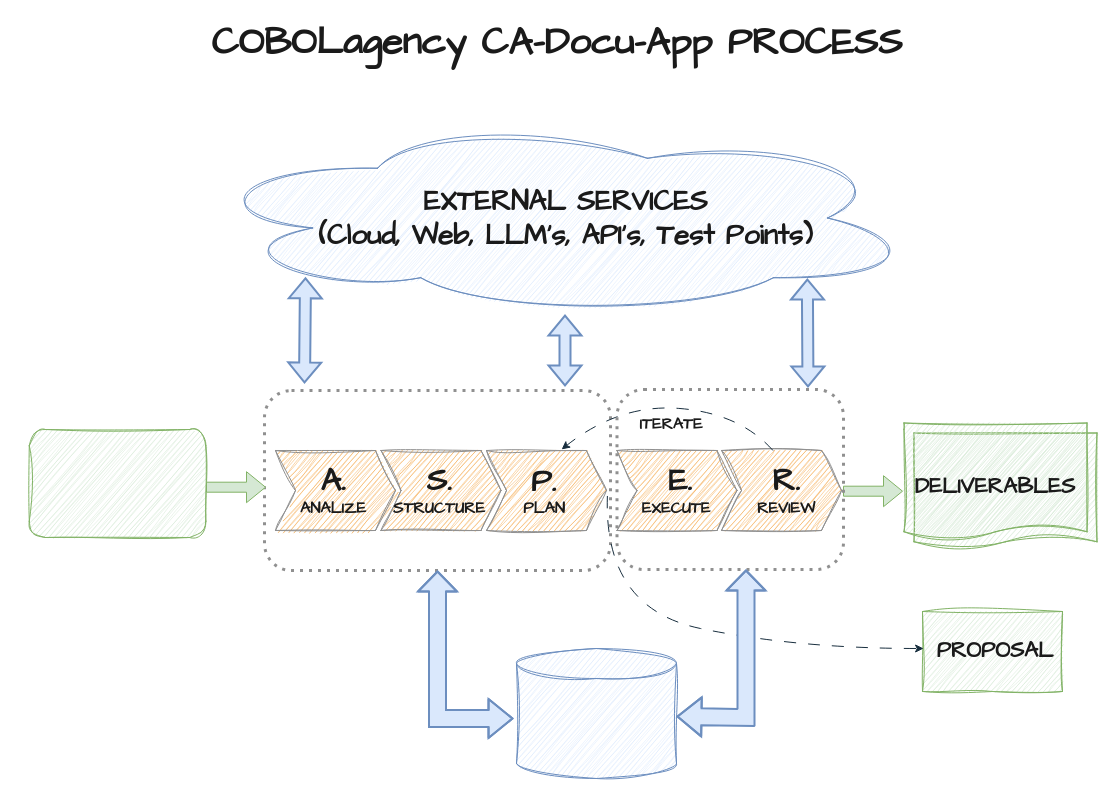
Image size: 1114x796. Some labels were removed from this diagram. The shapes that lost their labels are listed below. From the top down, each one's centre as x and y in pixels, then its label:
the point at 117,483: REQUIREMENTS
the point at 596,713: EXPERIENCE CAPTURE
